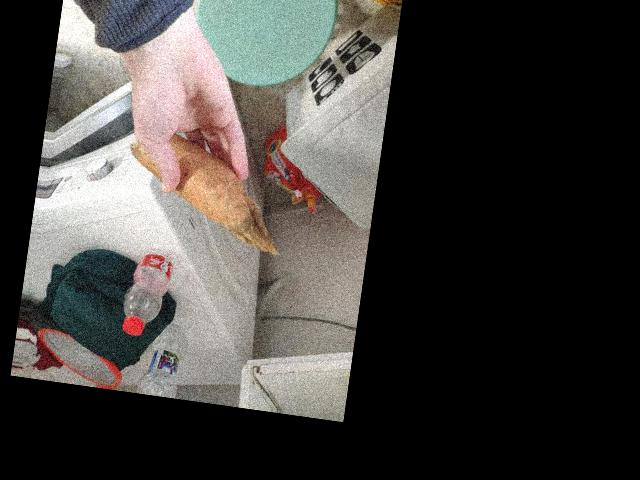sweet_potato: (147, 136, 253, 226)
